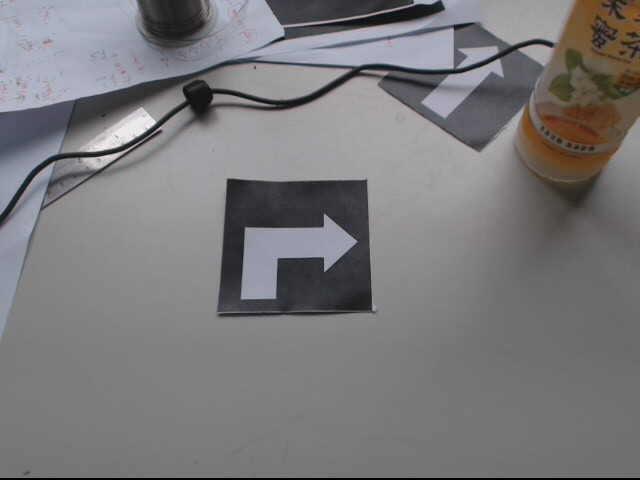right: (217, 177, 373, 313)
